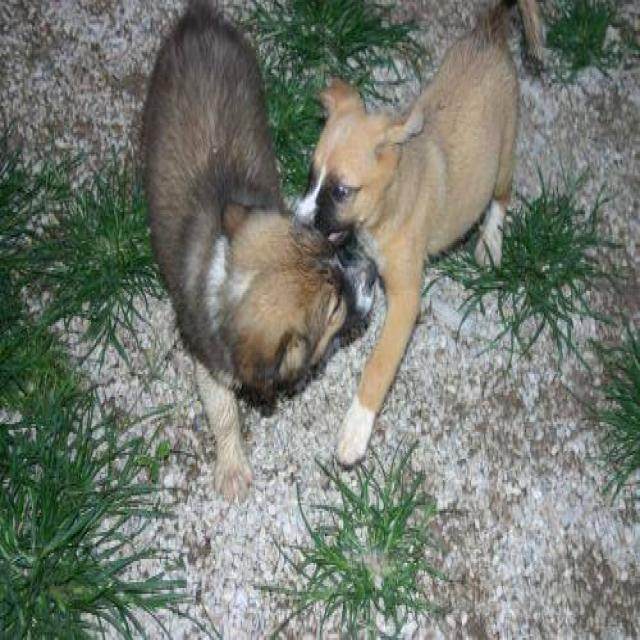dog: (137, 0, 376, 503), (290, 0, 546, 467)
